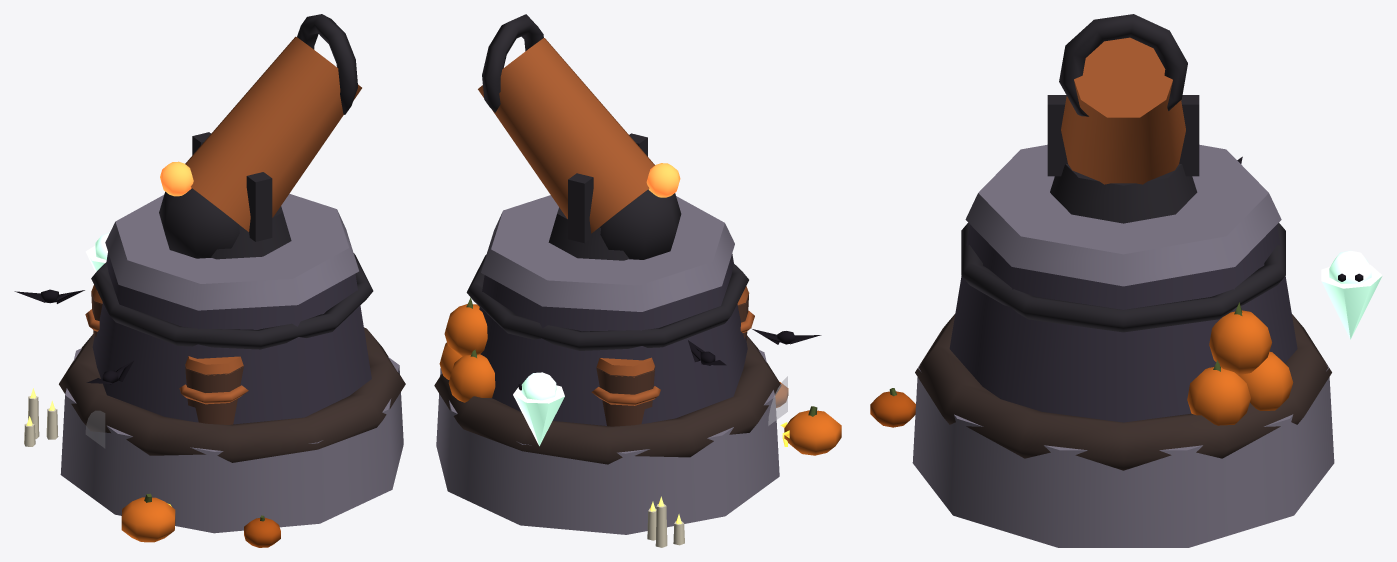
Rendered from tower_mine.glb.
3 renders of one model, left to right at view 1: azimuth 30°, elevation 25°; view 2: azimuth 150°, elevation 25°; view 3: azimuth 270°, elevation 25°, orthographic. The views are drawn at different scales.
Parts seen in each view (by area): view 1: base, bunker, bunker_cap, mortar_tube, earthwall, bunker_band, mortar_breech, mortar_mouth, deco_hw_jack_body, barrel_0, turret_trunnion_l, turret_yoke (+6 smaller); view 2: base, bunker, bunker_cap, mortar_tube, earthwall, bunker_band, mortar_breech, mortar_mouth, barrel_1, deco_hw_jack_body, shell_2, shell_0 (+9 smaller); view 3: base, bunker, bunker_cap, earthwall, mortar_tube, bunker_band, turret_yoke, mortar_mouth, shell_2, shell_1, deco_hw_ghost_sheet, shell_0 (+4 smaller).
Boxes of the visible parts, <box> form: base: <box>60,348,403,533</box>; bunker: <box>92,252,371,424</box>; bunker_cap: <box>105,193,358,310</box>; mortar_tube: <box>185,36,361,231</box>; earthwall: <box>59,327,405,462</box>; bunker_band: <box>91,253,373,349</box>; mortar_breech: <box>159,188,240,258</box>; mortar_mouth: <box>297,14,357,114</box>; deco_hw_jack_body: <box>121,497,175,542</box>; barrel_0: <box>185,364,243,424</box>; turret_trunnion_l: <box>246,172,272,241</box>; turret_yoke: <box>211,206,291,259</box>; base: <box>436,349,779,534</box>; bunker: <box>479,254,747,425</box>; bunker_cap: <box>481,195,734,311</box>; mortar_tube: <box>478,38,654,233</box>; earthwall: <box>434,335,781,464</box>; bunker_band: <box>466,254,748,350</box>; mortar_breech: <box>600,189,681,259</box>; mortar_mouth: <box>482,14,543,112</box>; barrel_1: <box>596,366,655,426</box>; deco_hw_jack_body: <box>784,410,841,455</box>; shell_2: <box>444,304,487,356</box>; shell_0: <box>448,354,495,402</box>; base: <box>912,364,1334,547</box>; bunker: <box>949,224,1297,422</box>; bunker_cap: <box>965,144,1281,286</box>; earthwall: <box>915,314,1331,470</box>; mortar_tube: <box>1061,37,1185,184</box>; bunker_band: <box>961,222,1285,332</box>; turret_yoke: <box>1050,164,1197,223</box>; mortar_mouth: <box>1059,14,1187,116</box>; shell_2: <box>1209,310,1271,374</box>; shell_1: <box>1187,367,1250,425</box>; deco_hw_ghost_sheet: <box>1321,264,1382,339</box>; shell_0: <box>1239,351,1293,410</box>.
Size of the model in its own units: 0.435 by 0.528 by 0.4863.
